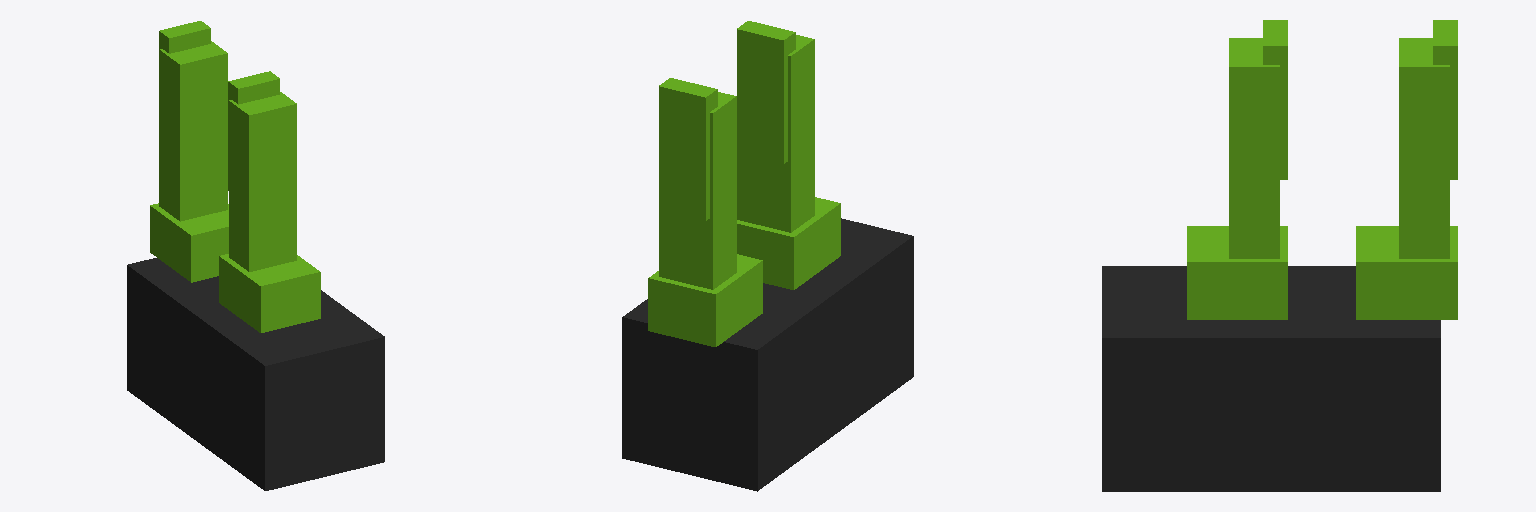
robot.urdf — enpire_yam_gripper:
<?xml version="1.0" encoding="utf-8"?>
<robot name="enpire_yam_gripper">
  <!-- Gripper Base -->
  <link name="gripper_base_link">
    <inertial>
      <origin xyz="0 0 0.02" rpy="0 0 0"/>
      <mass value="0.25"/>
      <inertia ixx="0.0002" ixy="0" ixz="0" iyy="0.0002" iyz="0" izz="0.0001"/>
    </inertial>
    <visual>
      <origin xyz="0 0 0.02" rpy="0 0 0"/>
      <geometry>
        <box size="0.04 0.08 0.04"/>
      </geometry>
      <material name="dark_gray">
        <color rgba="0.2 0.2 0.2 1.0"/>
      </material>
    </visual>
    <collision>
      <origin xyz="0 0 0.02" rpy="0 0 0"/>
      <geometry>
        <box size="0.04 0.08 0.04"/>
      </geometry>
    </collision>
  </link>

  <!-- Left Finger Joint -->
  <joint name="left_finger_joint" type="prismatic">
    <origin xyz="0 0.02 0.04" rpy="0 0 0"/>
    <parent link="gripper_base_link"/>
    <child link="left_finger_link"/>
    <axis xyz="0 1 0"/>
    <limit lower="0.0" upper="0.0400" effort="50" velocity="0.2"/>
    <dynamics damping="1.0" friction="0.1"/>
  </joint>

  <!-- Left Finger Link -->
  <link name="left_finger_link">
    <inertial>
      <origin xyz="0 0.01 0.035" rpy="0 0 0"/>
      <mass value="0.045"/>
      <inertia ixx="0.00003" ixy="0" ixz="0" iyy="0.00003" iyz="0" izz="0.00001"/>
    </inertial>
    <visual>
      <origin xyz="0 0 0" rpy="0 0 0"/>
      <geometry>
        <mesh filename="../stl/enpire_i2rt_yam/enpire_yam_finger_standard_left.stl" scale="0.001 0.001 0.001"/>
      </geometry>
      <material name="nvidia_green">
        <color rgba="0.45 0.75 0.15 1.0"/>
      </material>
    </visual>
    <collision>
      <origin xyz="0 0 0" rpy="0 0 0"/>
      <geometry>
        <mesh filename="../stl/enpire_i2rt_yam/enpire_yam_finger_standard_left.stl" scale="0.001 0.001 0.001"/>
      </geometry>
    </collision>
  </link>

  <!-- Right Finger Joint -->
  <joint name="right_finger_joint" type="prismatic">
    <origin xyz="0 -0.02 0.04" rpy="0 0 0"/>
    <parent link="gripper_base_link"/>
    <child link="right_finger_link"/>
    <axis xyz="0 -1 0"/>
    <limit lower="0.0" upper="0.0400" effort="50" velocity="0.2"/>
    <dynamics damping="1.0" friction="0.1"/>
    <mimic joint="left_finger_joint" multiplier="1.0" offset="0.0"/>
  </joint>

  <!-- Right Finger Link -->
  <link name="right_finger_link">
    <inertial>
      <origin xyz="0 -0.01 0.035" rpy="0 0 0"/>
      <mass value="0.045"/>
      <inertia ixx="0.00003" ixy="0" ixz="0" iyy="0.00003" iyz="0" izz="0.00001"/>
    </inertial>
    <visual>
      <origin xyz="0 0 0" rpy="0 0 0"/>
      <geometry>
        <mesh filename="../stl/enpire_i2rt_yam/enpire_yam_finger_standard_right.stl" scale="0.001 0.001 0.001"/>
      </geometry>
      <material name="nvidia_green">
        <color rgba="0.45 0.75 0.15 1.0"/>
      </material>
    </visual>
    <collision>
      <origin xyz="0 0 0" rpy="0 0 0"/>
      <geometry>
        <mesh filename="../stl/enpire_i2rt_yam/enpire_yam_finger_standard_right.stl" scale="0.001 0.001 0.001"/>
      </geometry>
    </collision>
  </link>

  <!-- Tool Center Point (TCP) Frame -->
  <joint name="tcp_joint" type="fixed">
    <origin xyz="0 0 0.075" rpy="0 0 0"/>
    <parent link="gripper_base_link"/>
    <child link="tcp_link"/>
  </joint>
  <link name="tcp_link"/>
</robot>

--- Render facts (derived) ---
The picture shows the robot from 3 angles, left to right: view 1: azimuth 30°, elevation 25°; view 2: azimuth 150°, elevation 25°; view 3: azimuth 270°, elevation 25°; orthographic projection.
Model enpire_yam_gripper with 4 links and 3 joints (2 prismatic, 1 fixed), rooted at gripper_base_link, posed every joint at zero.
Links seen in each view (by area): view 1: gripper_base_link, right_finger_link, left_finger_link; view 2: gripper_base_link, left_finger_link, right_finger_link; view 3: gripper_base_link, left_finger_link, right_finger_link.
Link boxes in pixels (x1,y1,x2,y2): gripper_base_link: (127, 258, 384, 490); right_finger_link: (219, 71, 320, 332); left_finger_link: (150, 21, 228, 282); gripper_base_link: (622, 218, 913, 491); left_finger_link: (648, 78, 762, 346); right_finger_link: (737, 21, 840, 289); gripper_base_link: (1102, 266, 1440, 491); left_finger_link: (1356, 20, 1457, 319); right_finger_link: (1187, 20, 1287, 319).
Size in the robot's own frame: 0.04 by 0.084 by 0.11 metres.
Meshes: 2 distinct files referenced, 2 mesh visuals loaded (2 binary STL).
